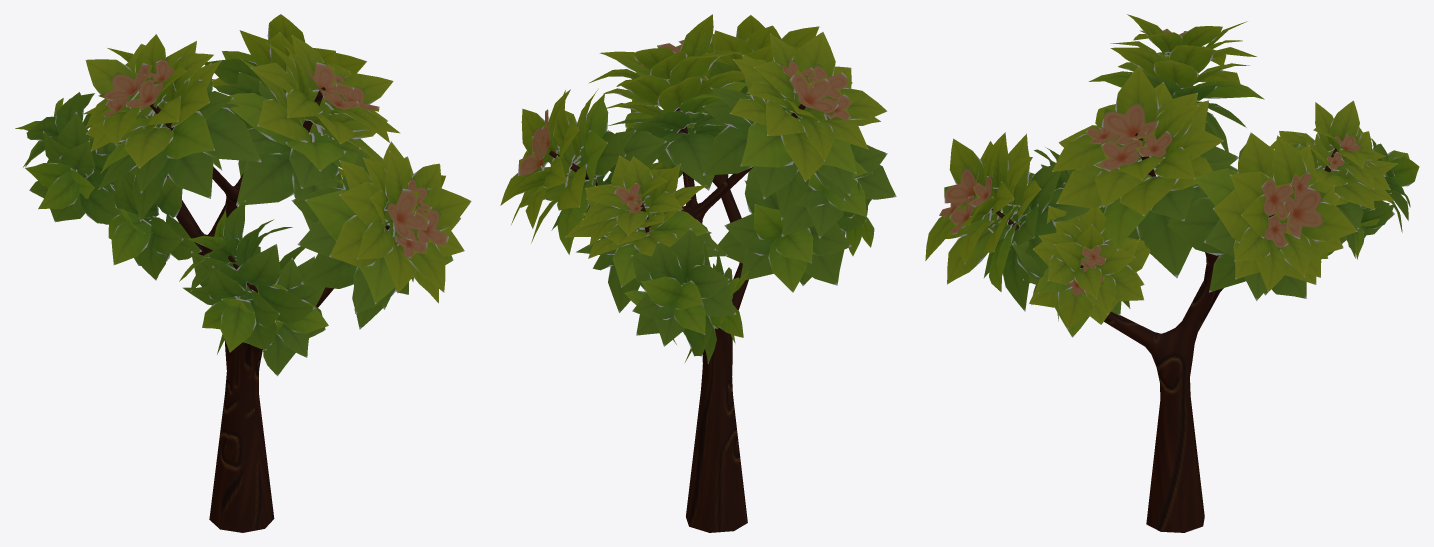
The model's file is Town_Trees_LightGreen_1.glb.
3 renders of one model, left to right at view 1: azimuth 30°, elevation 25°; view 2: azimuth 150°, elevation 25°; view 3: azimuth 270°, elevation 25°, orthographic. The views are drawn at different scales.
Visible parts, largest first — view 1: Object_6.003; view 2: Object_6.003; view 3: Object_6.003.
Boxes of the visible parts, left/top/right/bottom form: Object_6.003: left=15, top=14, right=471, bottom=532; Object_6.003: left=500, top=14, right=896, bottom=532; Object_6.003: left=925, top=14, right=1419, bottom=532.
Bounding box in the file's own units: 77.49 × 116 × 110.
